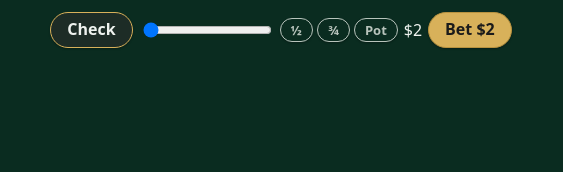
Scenario: ActionBar › shows an overbet hint only when the size exceeds the pot (iter-22 NIT #8)
The width and height of the screenshot is (563, 172).
Set the slider to "10" at coordinates (152, 30), box [143,22,272,38]
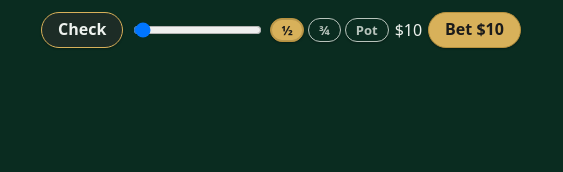
Set the slider to "50" at coordinates (152, 30), box [133,22,262,38]
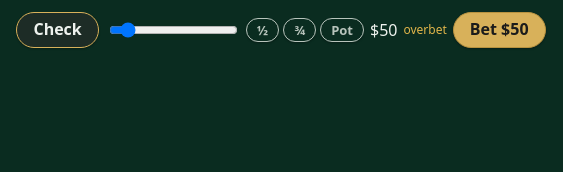
Check: the text "overbet" is shown, box [404,21,447,38]
